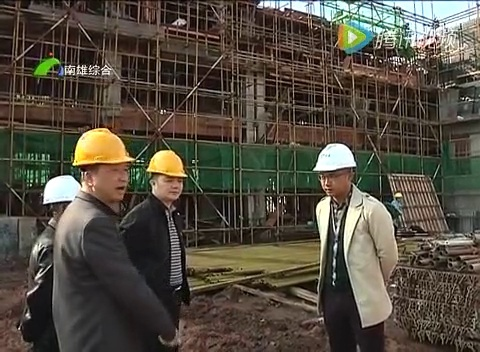white: (314, 142, 356, 197), (41, 172, 81, 221)
yellow: (73, 127, 129, 203), (146, 148, 184, 202)
